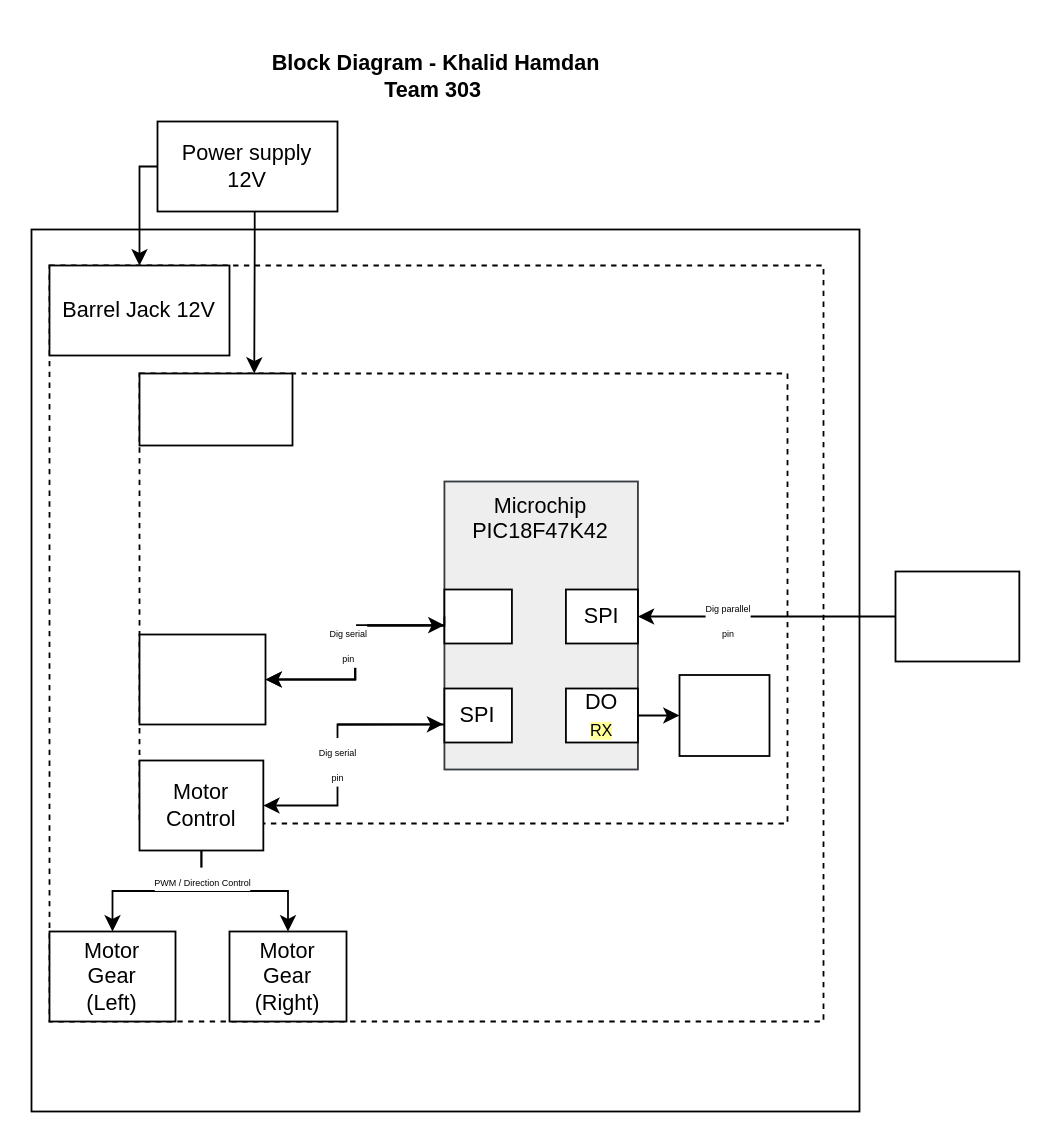
The diagram is 1051 pixels wide and 1143 high, and some of its shapes have lost their labels. Each missing label, with the centre of its shape:
3.3V power switch supply: [215,409]
Hall effect sensor: [202,678]
I2C: [477,616]
LED: [724,714]
Snap / ICSP Programmer: [956,616]
